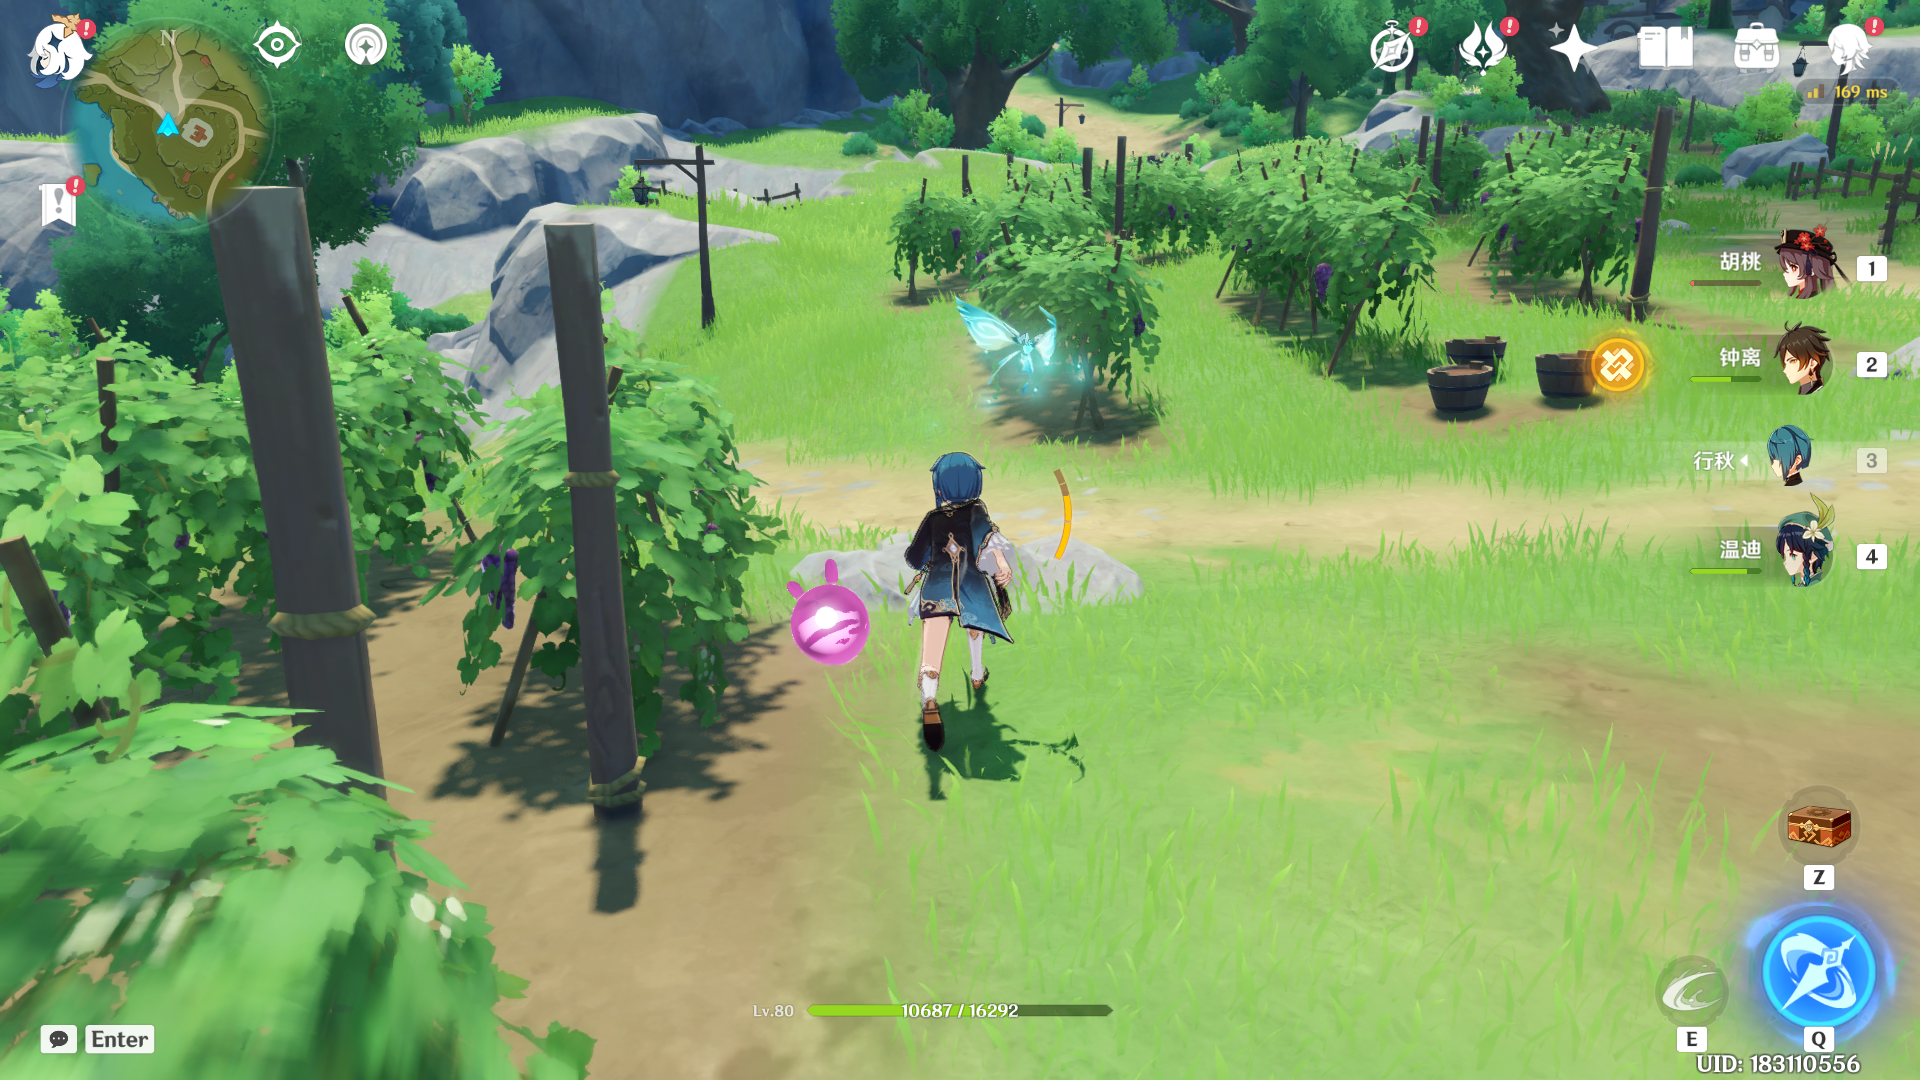character: (814, 427, 1075, 738)
